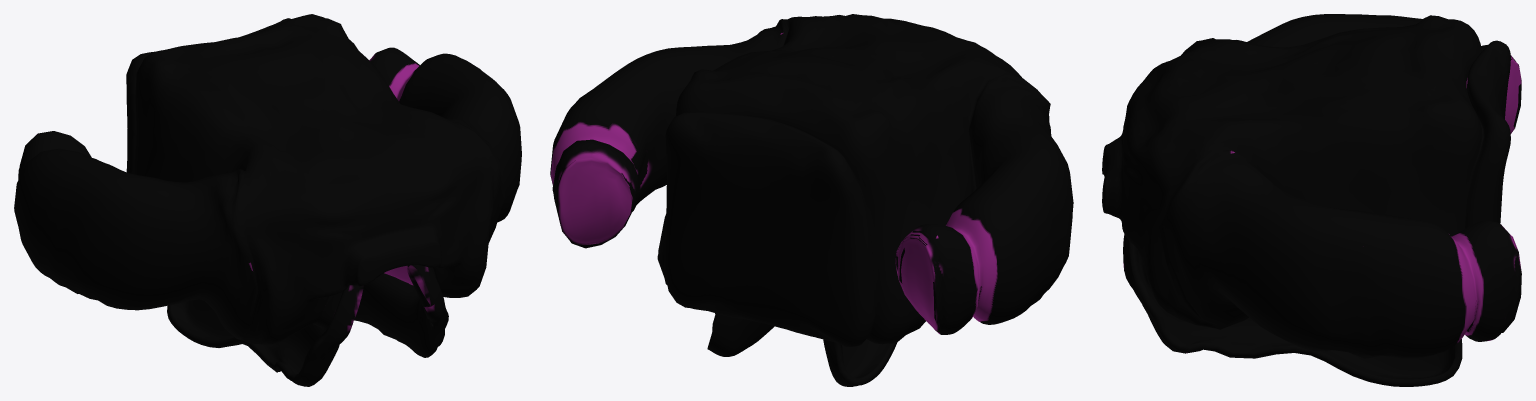
Rendered from Jacket.fbx.
3 views of the same model, side by side, from view 1: azimuth 30°, elevation 25°; view 2: azimuth 150°, elevation 25°; view 3: azimuth 270°, elevation 25° (orthographic). The views are drawn at different scales.
Parts seen in each view (by area): view 1: Cube, Cube.001; view 2: Cube, Cube.001; view 3: Cube, Cube.001.
Part boxes in pixels (bbox=[...]): Cube: bbox=[14, 14, 521, 344]; Cube.001: bbox=[167, 265, 448, 386]; Cube: bbox=[550, 14, 1073, 347]; Cube.001: bbox=[707, 313, 897, 386]; Cube: bbox=[1102, 14, 1521, 358]; Cube.001: bbox=[1123, 234, 1462, 386].
Bounding box in the file's own units: 306 × 180 × 226.
